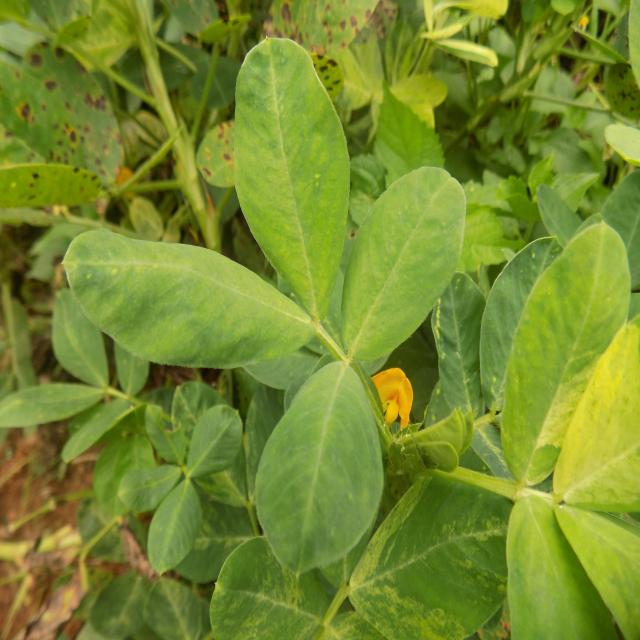Ground nut_healthy: (62, 232, 302, 380), (502, 215, 626, 500), (250, 363, 390, 579), (230, 32, 328, 323), (353, 475, 514, 640), (343, 174, 458, 378), (328, 202, 335, 205)
